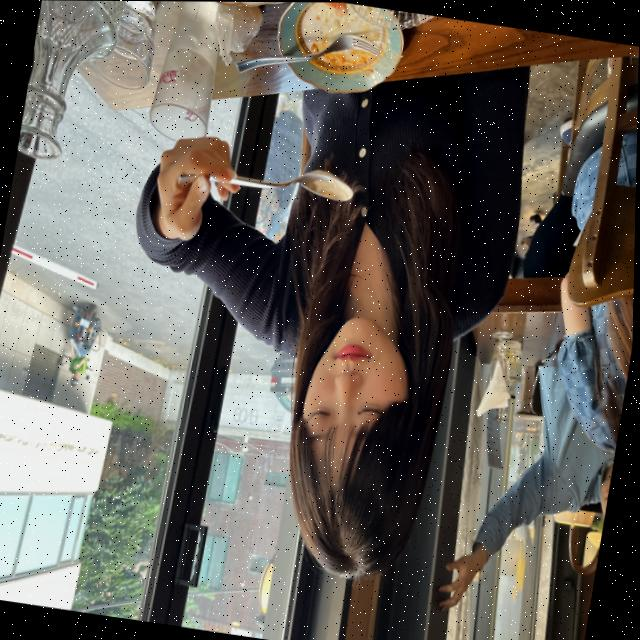eating-person: (67, 0, 561, 603)
